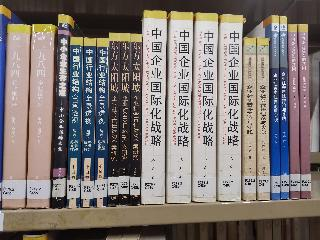book-spine: (25, 25, 56, 208), (165, 11, 194, 205), (191, 13, 220, 204), (139, 9, 167, 205), (2, 24, 31, 209), (216, 15, 244, 202), (53, 14, 70, 209), (283, 23, 301, 200), (66, 35, 83, 209), (242, 37, 260, 201), (92, 38, 109, 208), (267, 12, 282, 200), (106, 34, 121, 208), (81, 38, 96, 209), (117, 32, 131, 208), (256, 37, 271, 200), (278, 15, 291, 200), (299, 23, 312, 199), (131, 34, 142, 208)
